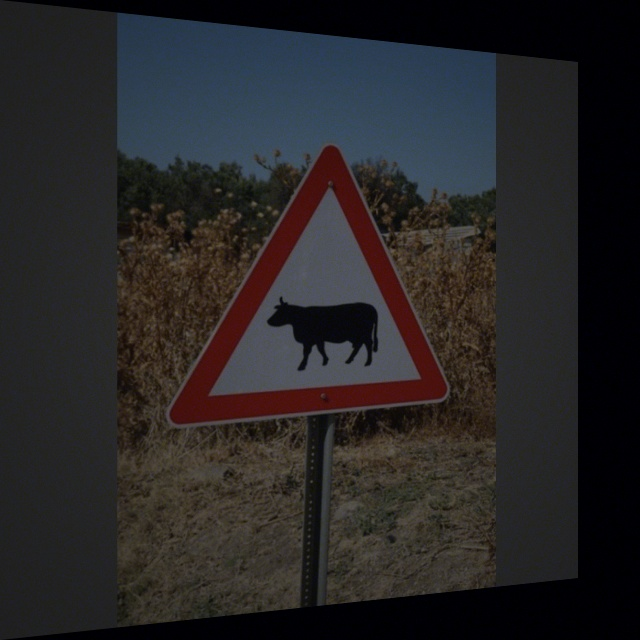Cattle: (182, 138, 452, 426)
